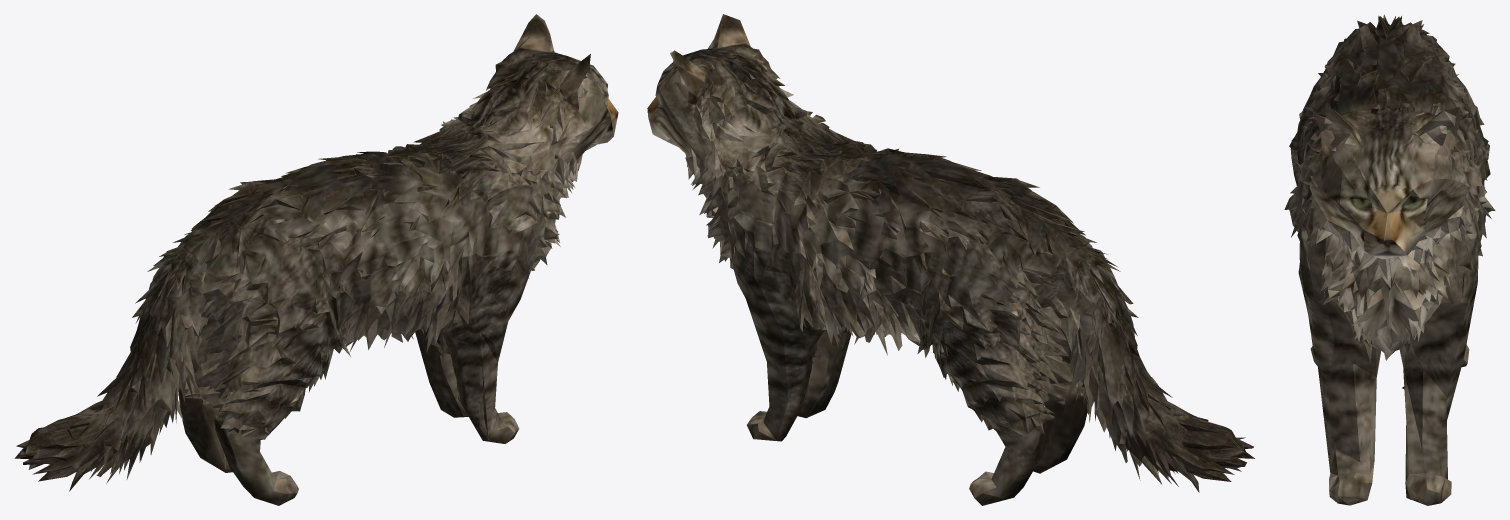
File: CHURCHCCAT.glb
3 renders of one model, left to right at view 1: azimuth 30°, elevation 25°; view 2: azimuth 150°, elevation 25°; view 3: azimuth 270°, elevation 25°, orthographic. The views are drawn at different scales.
Parts seen in each view (by area): view 1: fit; view 2: fit; view 3: fit.
Boxes of the visible parts, x1=… form: fit: x1=14, y1=14, x2=618, y2=505; fit: x1=647, y1=14, x2=1254, y2=505; fit: x1=1284, y1=14, x2=1495, y2=505.
Bounding box in the file's own units: 1.7 × 0.9998 × 0.4346.
Materials: 1 (1 with a texture image).
